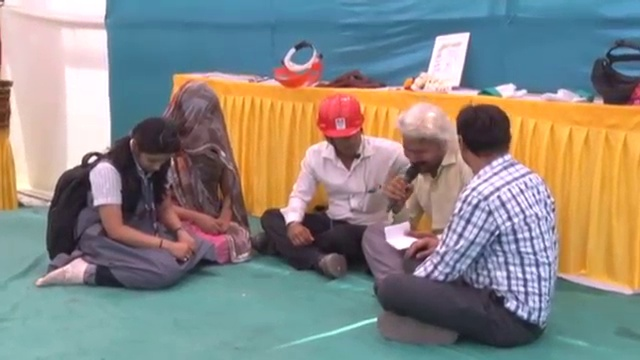helmet: (313, 101, 365, 148)
helmet_off: (451, 103, 518, 180), (122, 114, 182, 180), (400, 102, 453, 171), (169, 81, 223, 145)
helmet_on: (313, 104, 372, 166)
person: (377, 103, 557, 346), (37, 116, 210, 289), (249, 94, 405, 278), (151, 72, 251, 267), (363, 101, 475, 272)
